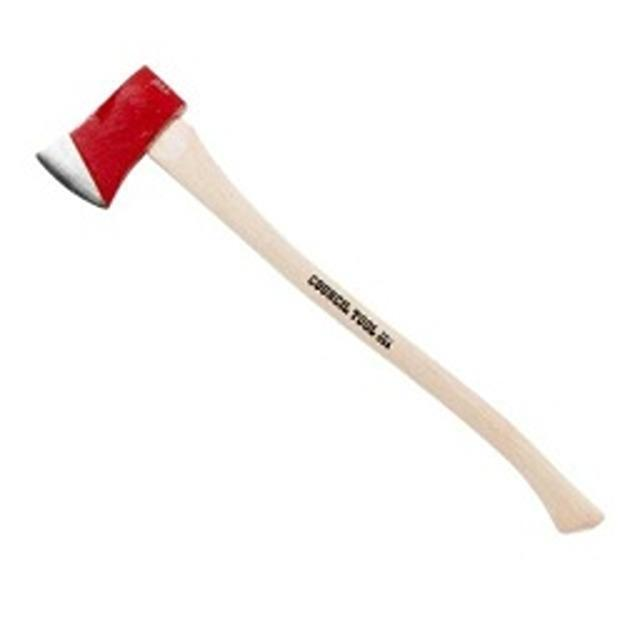ax: (22, 52, 614, 542)
